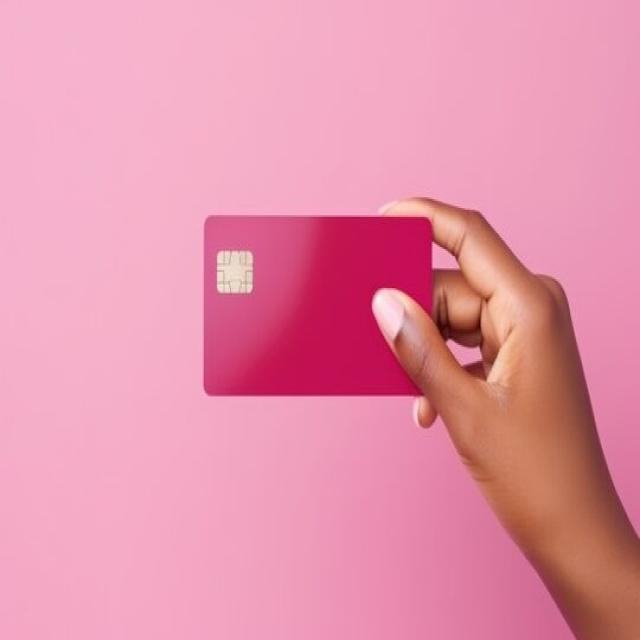payment_card: (202, 213, 434, 396)
